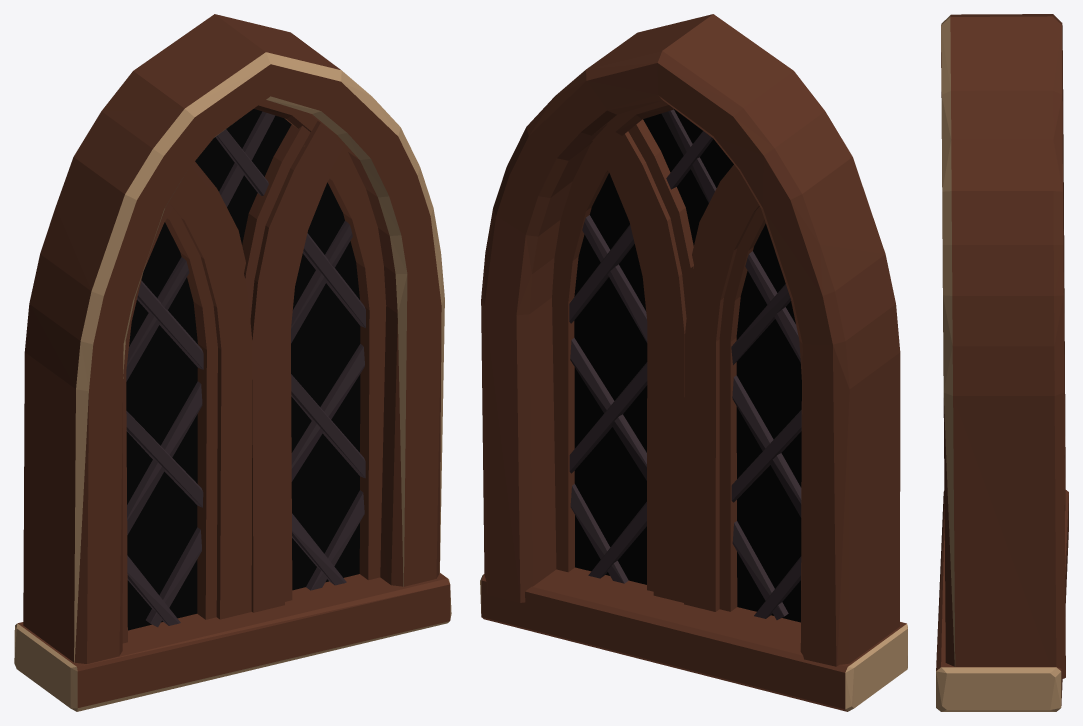
File: MCastle_Window_01.FBX
The picture shows the model from 3 angles, left to right: view 1: azimuth 30°, elevation 25°; view 2: azimuth 150°, elevation 25°; view 3: azimuth 270°, elevation 25°; orthographic projection.
Parts seen in each view (by area): view 1: MCastle_Window_01_LOD0, MCastle_Window_01_Glass; view 2: MCastle_Window_01_LOD0, MCastle_Window_01_Glass; view 3: MCastle_Window_01_LOD0.
Part boxes in pixels (x1,y1,x2,y2): MCastle_Window_01_LOD0: [14, 14, 451, 711]; MCastle_Window_01_Glass: [126, 109, 360, 630]; MCastle_Window_01_LOD0: [480, 14, 907, 711]; MCastle_Window_01_Glass: [574, 109, 801, 622]; MCastle_Window_01_LOD0: [936, 14, 1068, 711].
Size of what is drawn, in the model's own units: 1.33 by 2.06 by 0.4066.
